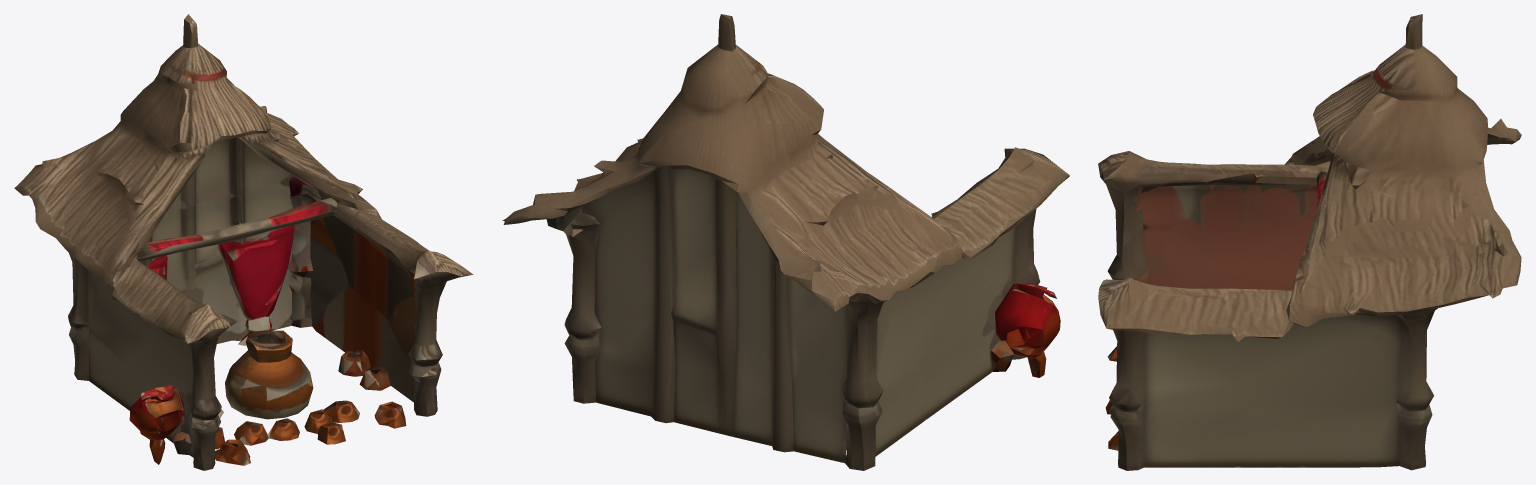
The model's file is palmares_almacen_mina.glb.
3 renders of one model, left to right at view 1: azimuth 30°, elevation 25°; view 2: azimuth 150°, elevation 25°; view 3: azimuth 270°, elevation 25°, orthographic. The views are drawn at different scales.
Parts seen in each view (by area): view 1: geometry_0; view 2: geometry_0; view 3: geometry_0.
Part boxes in pixels (x1,y1,x2,y2): geometry_0: [14, 14, 473, 470]; geometry_0: [502, 14, 1069, 470]; geometry_0: [1098, 14, 1521, 470].
Size of the model in its own units: 1.37 by 1.42 by 1.4.
1 material, 1 textured.
